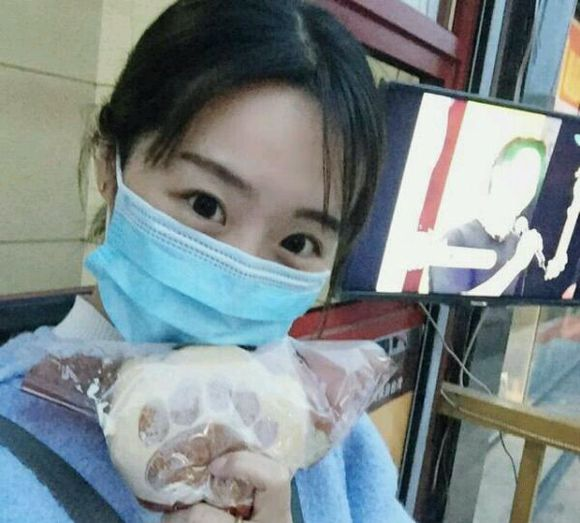face_mask: (115, 94, 342, 355)
